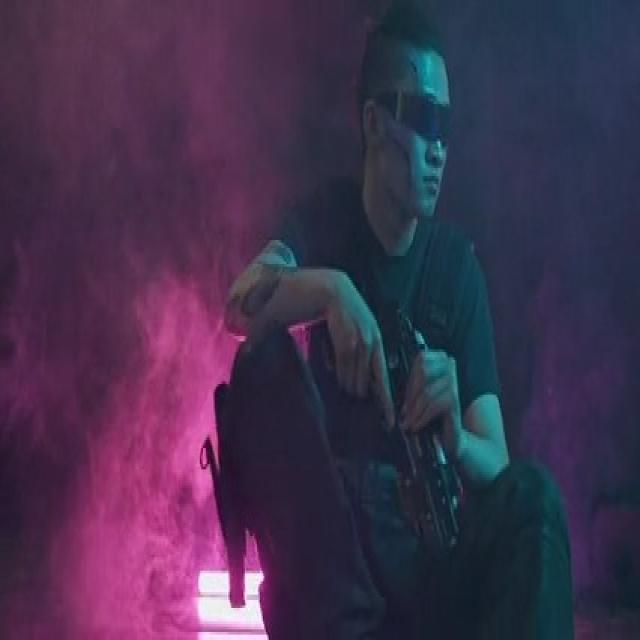Gun_Holder: (327, 293, 483, 575)
Person: (212, 2, 574, 640)
